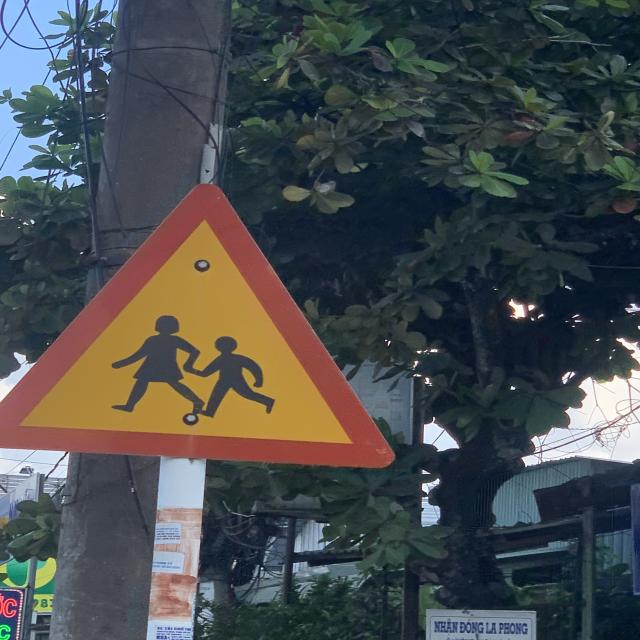Vong_Xuyen: (0, 186, 394, 469)
